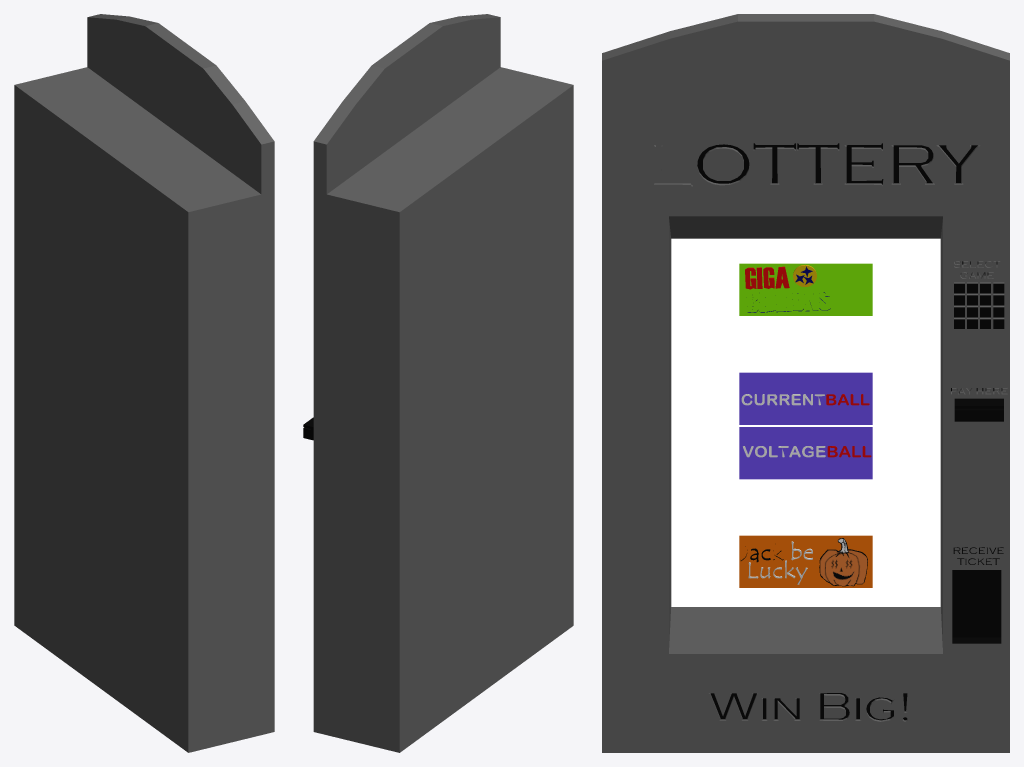
Rendered from Lottery Box.glb.
3 views of the same model, side by side, from view 1: azimuth 30°, elevation 25°; view 2: azimuth 150°, elevation 25°; view 3: azimuth 270°, elevation 25° (orthographic). The views are drawn at different scales.
Parts seen in each view (by area): view 1: Body; view 2: Body; view 3: Body, Games Text.
Part boxes in pixels (box(x1,y1,x2,y2)): Body: box(14, 14, 274, 752); Body: box(303, 14, 573, 752); Body: box(602, 14, 1009, 752); Games Text: box(740, 265, 871, 586).
Size of the model in its own units: 0.3503 by 2.11 by 1.07.
Materials: 15 (1 with a texture image).
